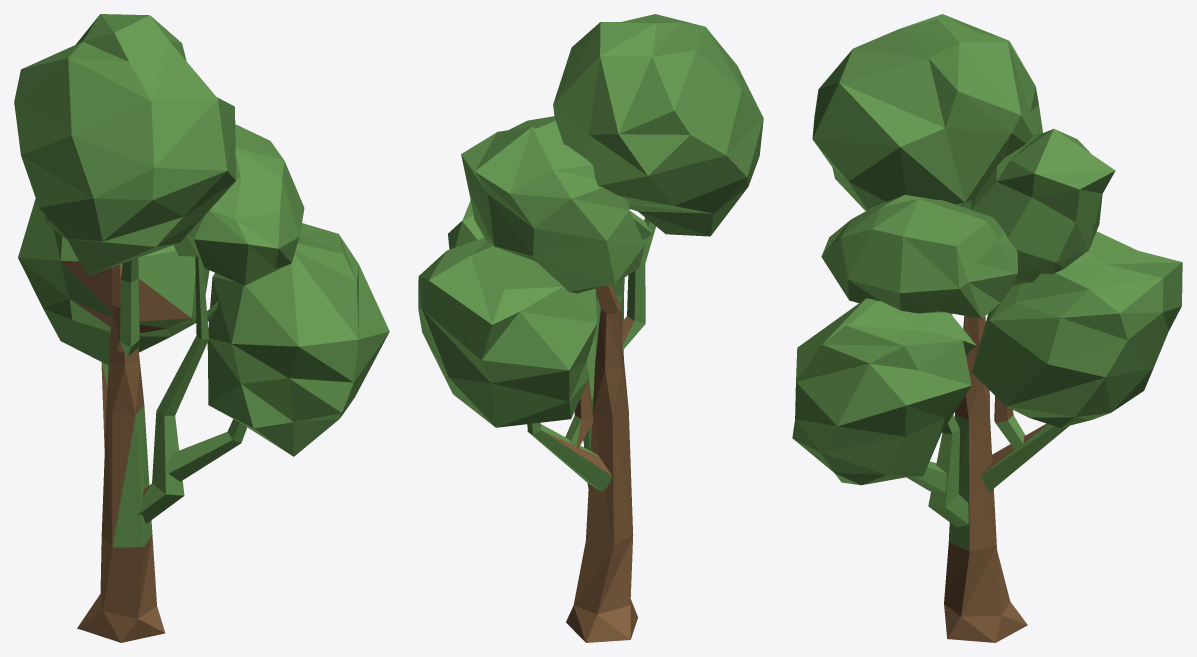
File: tree3d-124.glb
3 views of the same model, side by side, from view 1: azimuth 30°, elevation 25°; view 2: azimuth 150°, elevation 25°; view 3: azimuth 270°, elevation 25° (orthographic). The views are drawn at different scales.
Parts seen in each view (by area): view 1: tree3d-124; view 2: tree3d-124; view 3: tree3d-124.
Boxes of the visible parts, x1,y1,x2,y2 form: tree3d-124: (14,14,389,642); tree3d-124: (418,14,763,642); tree3d-124: (792,14,1182,642).
Size of the model in its own units: 0.5395 by 1 by 0.5955.
